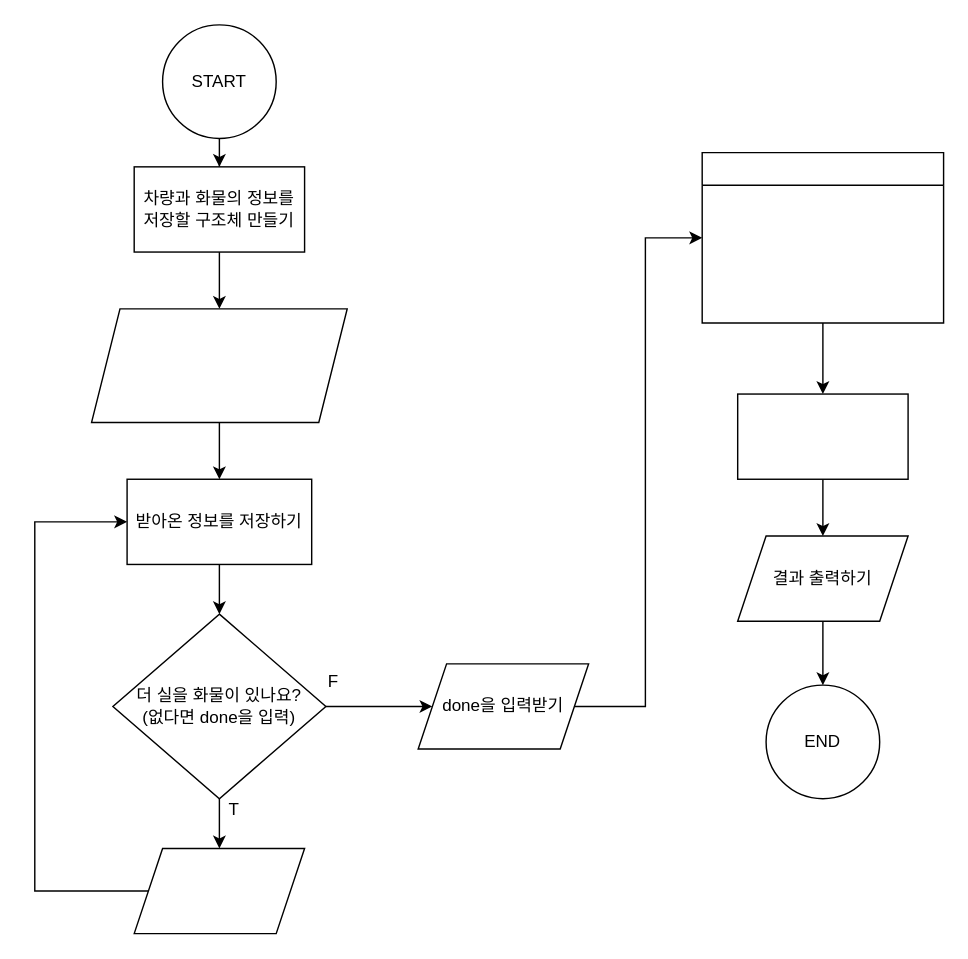
This 968x959 diagram has some shape labels left out. Each missing label, with the centre of its shape:
"사용자에게 1. 현재 기름값 2. 차량의 최대적재무게 3. 화물의 정보 받아오기" belongs at point (218, 364).
"사용자에게 화물정보 받아오기" belongs at point (219, 890).
"최적의 조합 결과를 저장하기" belongs at point (822, 436).
"화물 알고리즘" belongs at point (822, 237).
